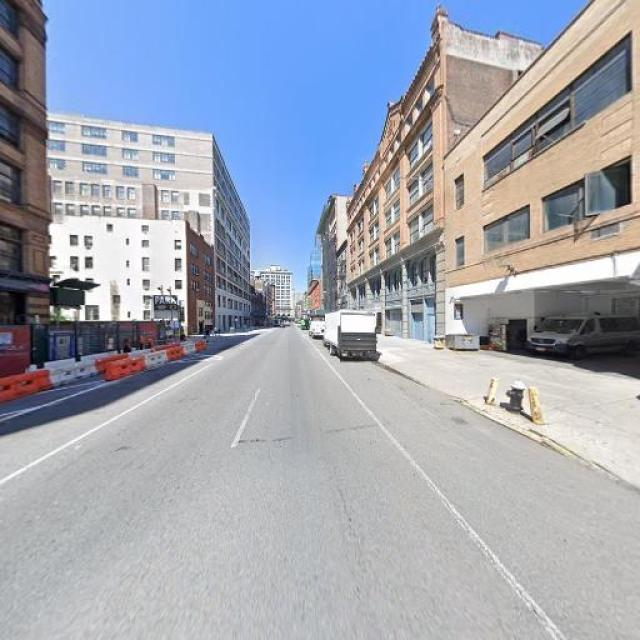Building: (442, 1, 640, 379), (347, 34, 439, 345), (1, 1, 44, 360), (214, 143, 249, 330), (189, 224, 212, 334)
